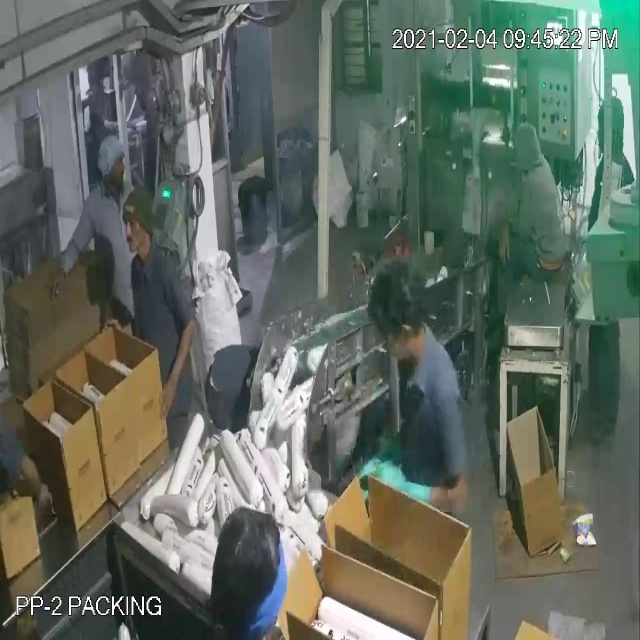Guantes: (360, 460, 477, 523)
Sin_guantes: (14, 436, 74, 548), (150, 304, 203, 422), (45, 257, 73, 313)
